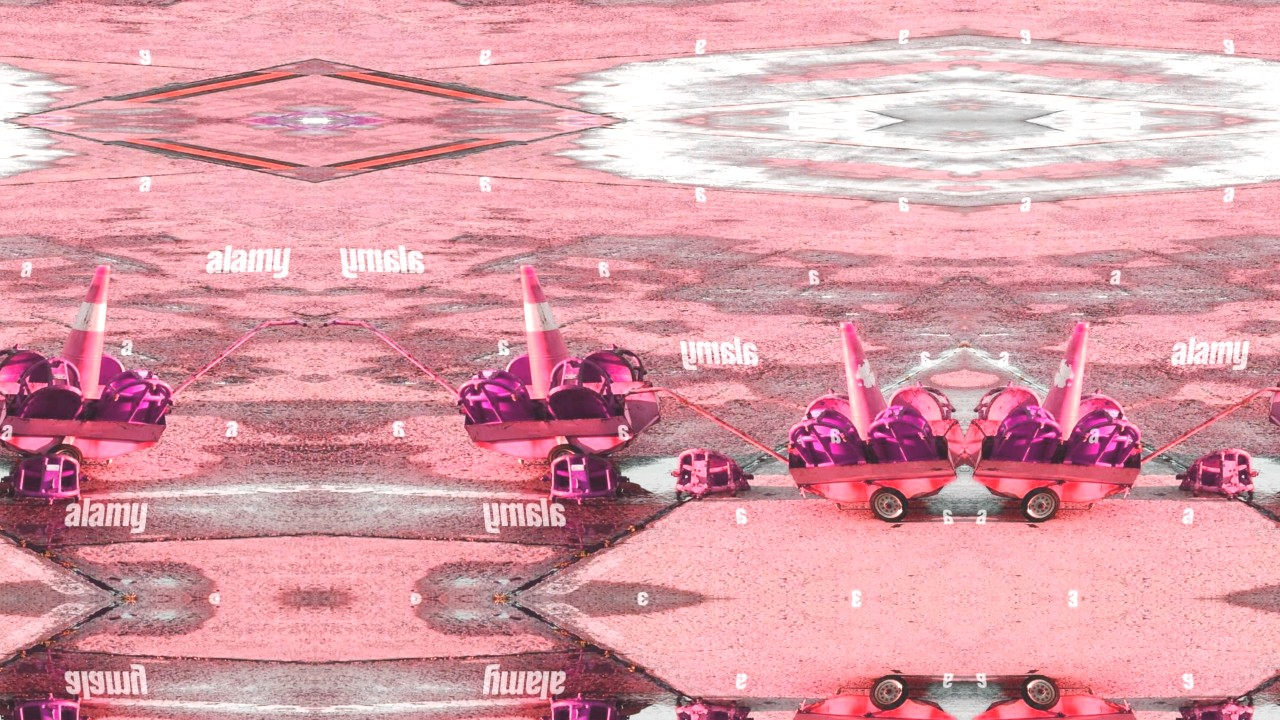chock: (782, 404, 866, 468), (661, 446, 757, 502), (1064, 404, 1148, 468), (1173, 446, 1269, 502), (9, 357, 91, 421), (539, 357, 621, 421), (861, 402, 938, 464), (992, 402, 1069, 464), (97, 370, 176, 427), (454, 370, 533, 427), (3, 452, 86, 501), (544, 452, 627, 501), (575, 341, 648, 386), (884, 380, 956, 422), (974, 380, 1046, 422), (0, 341, 55, 386), (797, 389, 854, 432), (1076, 389, 1133, 432), (661, 696, 757, 720), (1173, 696, 1269, 720), (3, 697, 86, 720), (544, 697, 627, 720), (97, 349, 132, 383), (498, 349, 533, 383)
wheel: (867, 487, 912, 524), (1018, 487, 1063, 524), (867, 674, 912, 711), (1018, 674, 1063, 711), (40, 443, 87, 475), (543, 443, 590, 475)
